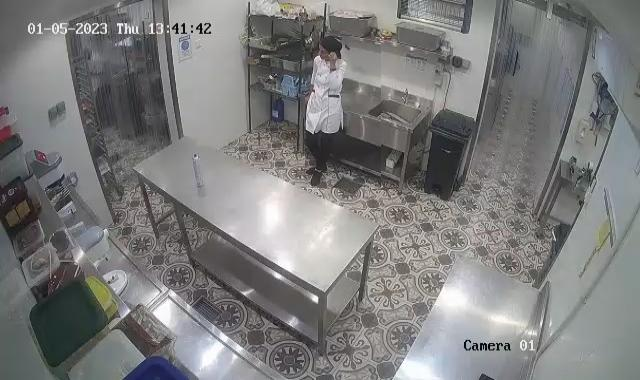no_hairnet: (320, 38, 344, 60)
